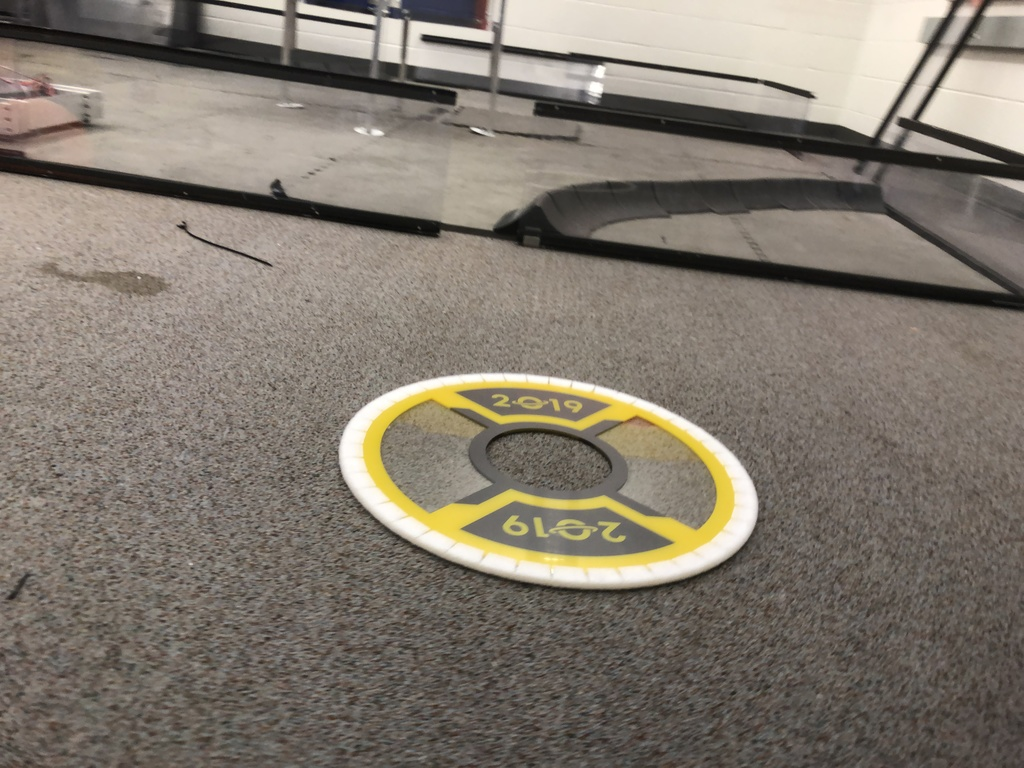hatch_panel: (315, 356, 773, 595)
